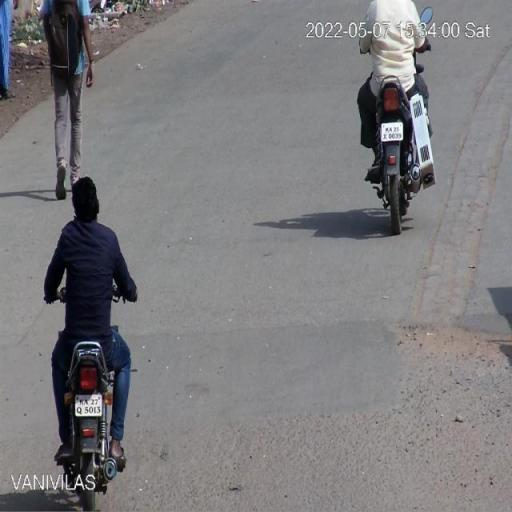numberplate: (74, 395, 104, 415)
using mobile: (71, 208, 82, 227)
